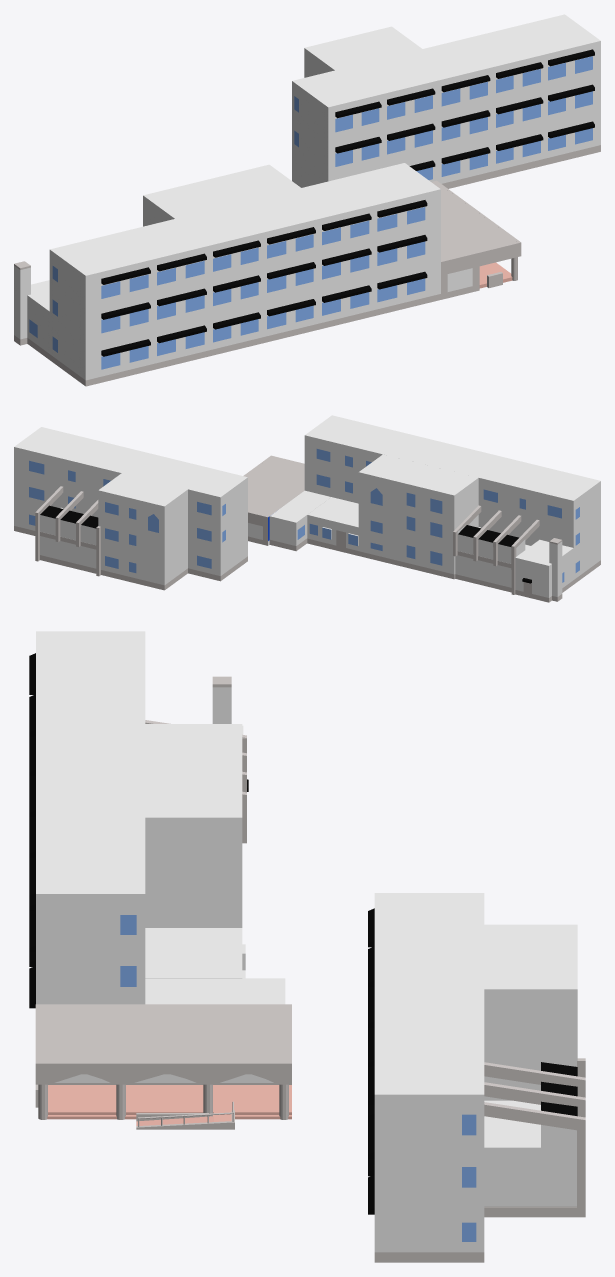
File: ryou.glb
The picture shows the model from 3 angles, top to bottom: view 1: azimuth 30°, elevation 25°; view 2: azimuth 150°, elevation 25°; view 3: azimuth 270°, elevation 25°; orthographic projection. The views are drawn at different scales.
Visible parts, largest first — view 1: 学生寮・男子, 学生寮・女子, 学生寮・男子・玄関口, 学生寮・男子・出っ張った部分, 学生寮・男子・なんか出口あるとこ, 学生寮・男子・なんか出口あるとこ・四角柱; view 2: 学生寮・女子, 学生寮・男子, 学生寮・男子・出っ張った部分, 学生寮・男子・玄関口, 学生寮・男子・謎部分・建物部分・土台, 学生寮・女子・謎部分・建物部分・土台, 学生寮・男子・通路近くの低い部分, 学生寮・男子・なんか出口あるとこ, 学生寮・男子・食堂行通路側, 学生寮・男子・なんか出口あるとこ・四角柱; view 3: 学生寮・女子, 学生寮・男子, 学生寮・男子・出っ張った部分, 学生寮・男子・玄関口, 学生寮・女子・謎部分・建物部分・土台, 学生寮・男子・玄関・階段, 学生寮・男子・通路近くの低い部分, 学生寮・男子・玄関・屋根・装飾, 学生寮・男子・食堂行通路側, 学生寮・女子・枠組み・土台.002, 学生寮・女子・謎部分・斜め枠組み, 学生寮・男子・玄関・円柱 (+3 smaller).
Boxes of the visible parts, box(x1,y1,x2,y2) form: 学生寮・男子: box(49, 163, 440, 386); 学生寮・女子: box(292, 14, 600, 188); 学生寮・男子・玄関口: box(431, 181, 519, 299); 学生寮・男子・出っ張った部分: box(143, 164, 300, 226); 学生寮・男子・なんか出口あるとこ: box(27, 280, 49, 359); 学生寮・男子・なんか出口あるとこ・四角柱: box(14, 261, 30, 345); 学生寮・女子: box(14, 427, 247, 590); 学生寮・男子: box(304, 415, 600, 584); 学生寮・男子・出っ張った部分: box(358, 454, 478, 579); 学生寮・男子・玄関口: box(245, 456, 304, 545); 学生寮・男子・謎部分・建物部分・土台: box(455, 525, 530, 592); 学生寮・女子・謎部分・建物部分・土台: box(40, 505, 98, 573); 学生寮・男子・通路近くの低い部分: box(307, 497, 358, 555); 学生寮・男子・なんか出口あるとこ: box(515, 539, 573, 602); 学生寮・男子・食堂行通路側: box(269, 490, 330, 551); 学生寮・男子・なんか出口あるとこ・四角柱: box(549, 538, 562, 601); 学生寮・女子: box(368, 893, 577, 1262); 学生寮・男子: box(29, 631, 145, 1008); 学生寮・男子・出っ張った部分: box(145, 724, 242, 927); 学生寮・男子・玄関口: box(35, 1004, 291, 1084); 学生寮・女子・謎部分・建物部分・土台: box(484, 1062, 577, 1207); 学生寮・男子・玄関・階段: box(47, 1085, 291, 1119); 学生寮・男子・通路近くの低い部分: box(145, 928, 245, 978); 学生寮・男子・玄関・屋根・装飾: box(35, 1062, 291, 1084); 学生寮・男子・食堂行通路側: box(145, 978, 285, 1004); 学生寮・女子・枠組み・土台.002: box(484, 1120, 585, 1217); 学生寮・女子・謎部分・斜め枠組み: box(484, 1102, 585, 1130); 学生寮・男子・玄関・円柱: box(38, 1084, 288, 1119).
Size of the model in its own units: 15.77 by 2.64 by 7.91.
Materials: 1 (1 with a texture image).
